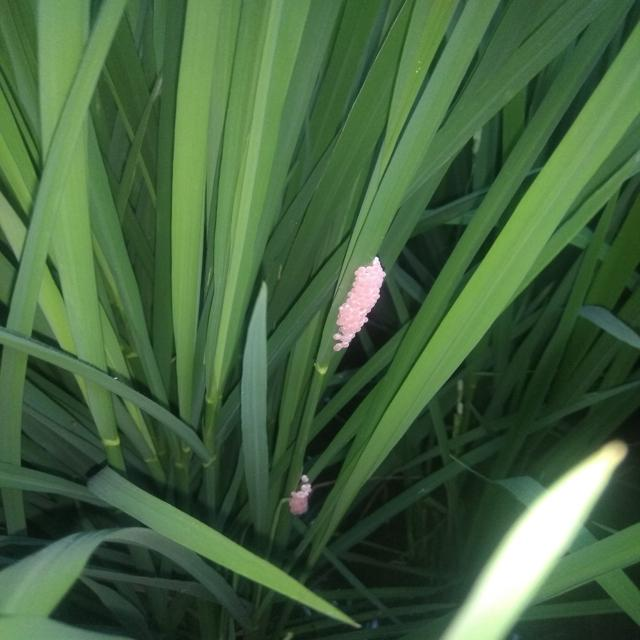Leaf blast: (323, 250, 391, 362), (283, 468, 318, 523)
